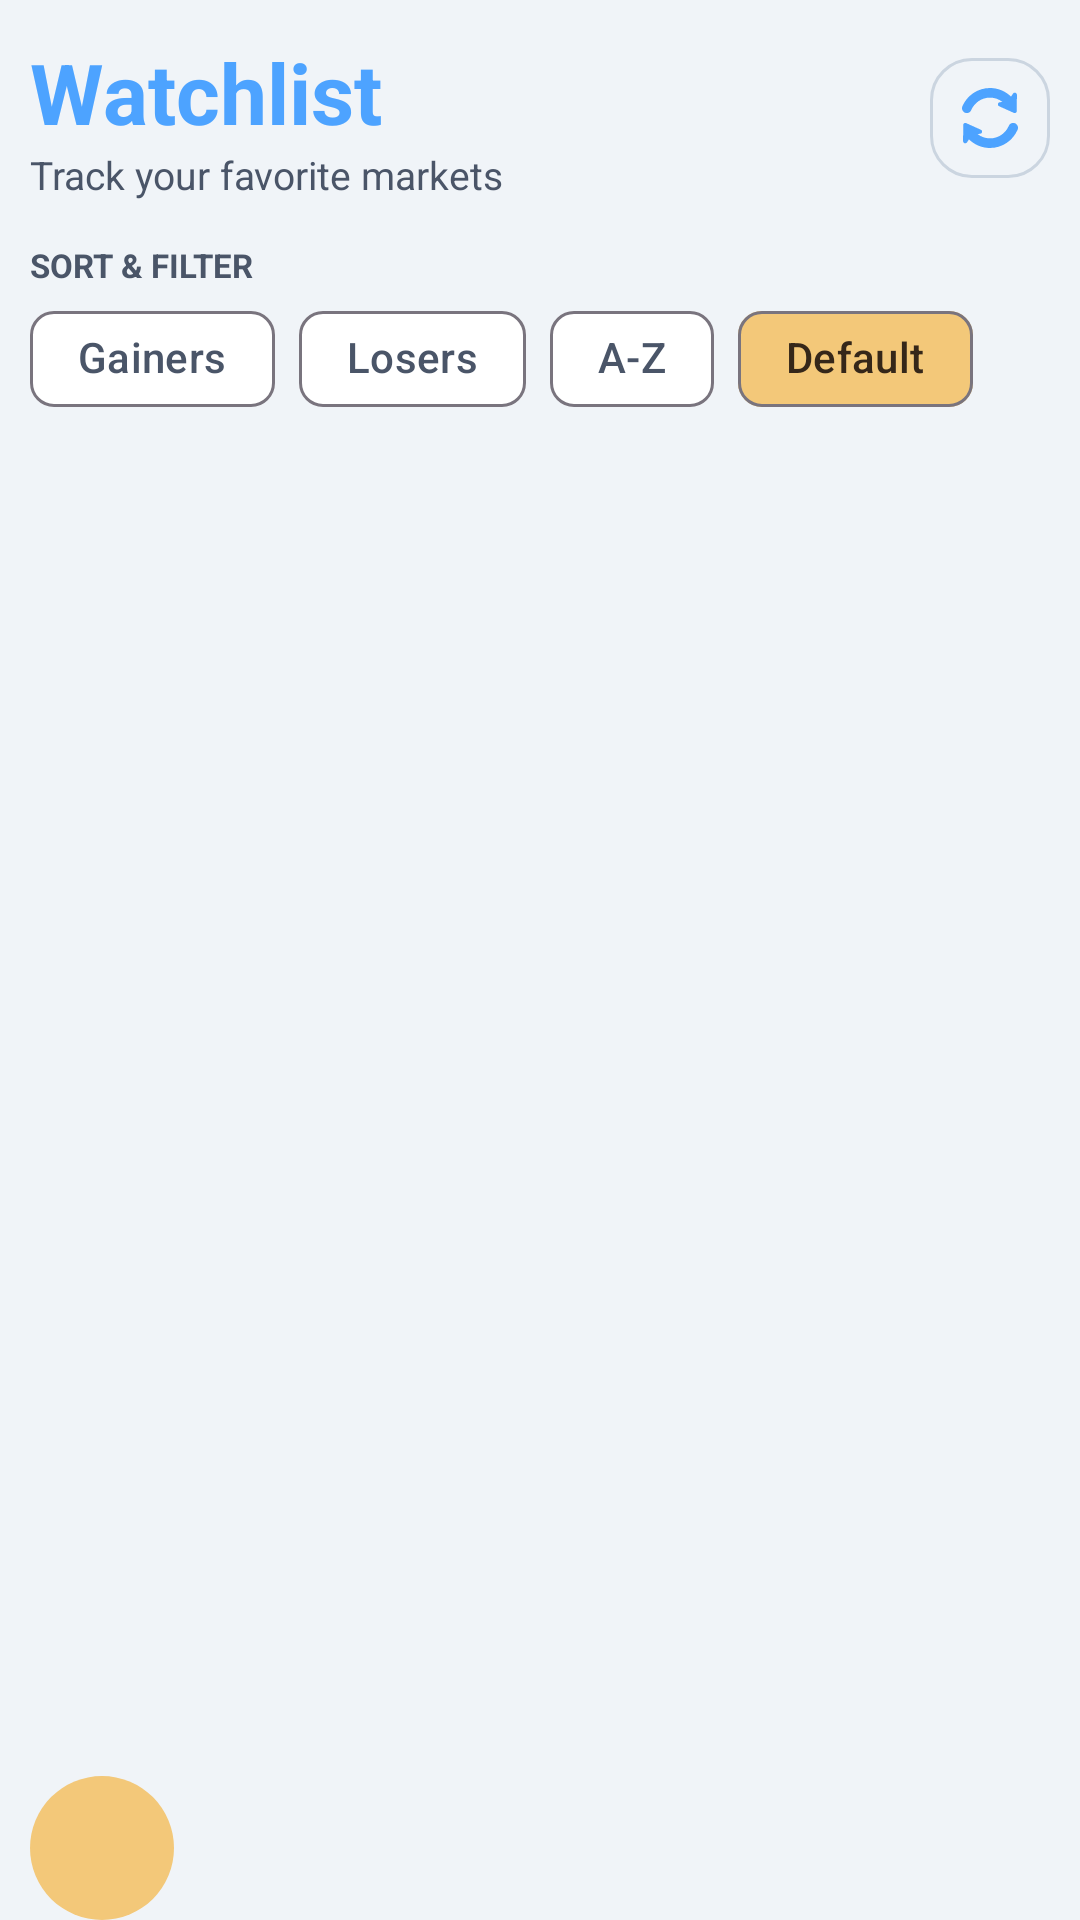

Icons on this 1080px x 1920px Android screen, each with its box as [x1=x1, y1=y1, x2=x2, y2=y2]:
Refresh watchlist prices: [x1=930, y1=58, x2=1050, y2=178]
